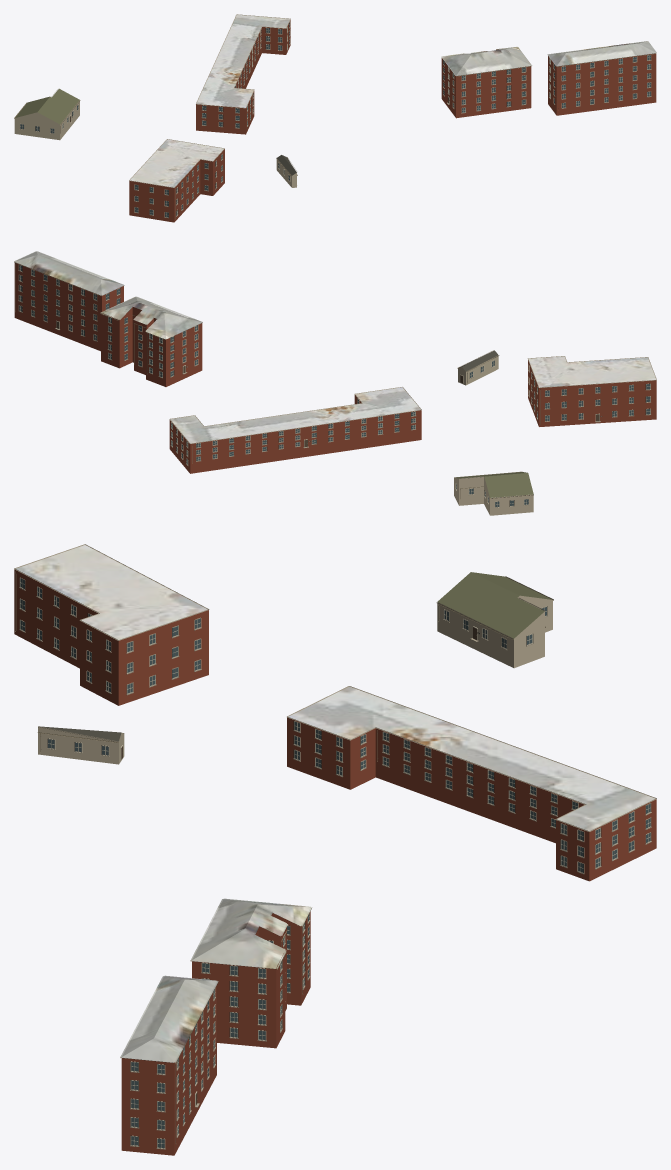
The picture shows the model from 3 angles, top to bottom: view 1: azimuth 30°, elevation 25°; view 2: azimuth 150°, elevation 25°; view 3: azimuth 270°, elevation 25°; orthographic projection. The views are drawn at different scales.
Parts seen in each view (by area): view 1: 1_-2_679125115_118, 1_-2_-1940_175; view 2: 1_-2_679125115_118, 1_-2_-1940_175; view 3: 1_-2_679125115_118, 1_-2_-1940_175.
Part boxes in pixels (<box>): 1_-2_679125115_118: <box>14,14,656,222</box>; 1_-2_-1940_175: <box>14,88,296,187</box>; 1_-2_679125115_118: <box>14,251,656,507</box>; 1_-2_-1940_175: <box>454,350,533,515</box>; 1_-2_679125115_118: <box>14,544,656,1155</box>; 1_-2_-1940_175: <box>38,572,552,764</box>.
Bounding box in the file's own units: 201 × 21.13 × 109.
12 materials, 1 textured.
